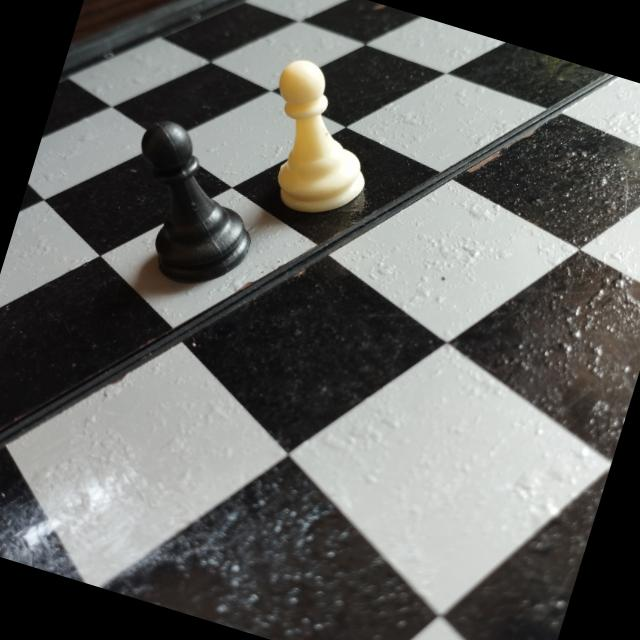Black Pawn: (100, 106, 283, 305)
White Pawn: (240, 50, 400, 234)
